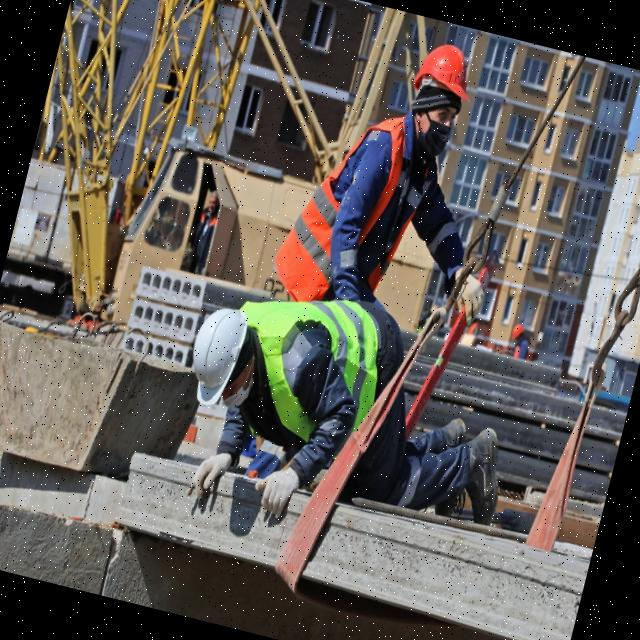Helmet: (180, 302, 257, 412), (411, 40, 481, 109)
Jacket: (292, 108, 427, 294), (243, 285, 392, 447)
